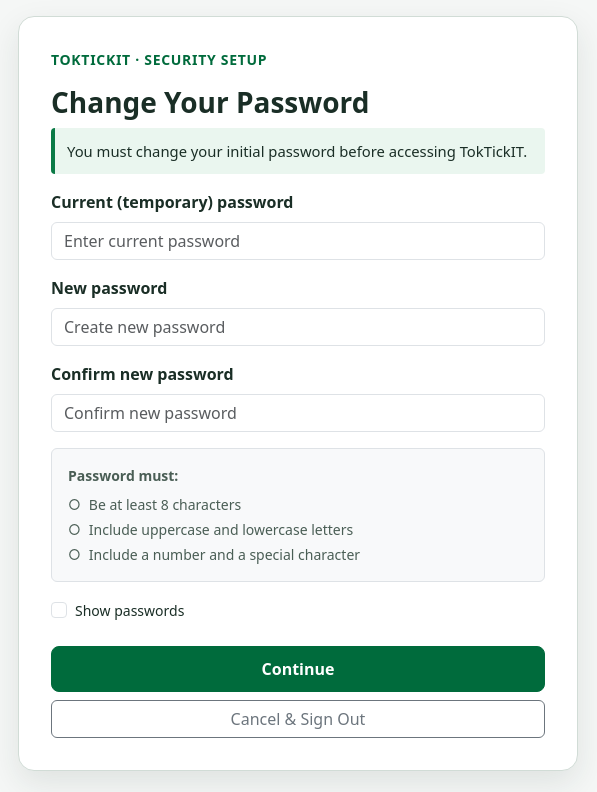
Test case: ChangePassword Component (Work Item 3) › validates that confirmation password matches new password
Step 1. Type "Initial123!" into the password field labelled "Current (temporary) password" → (298, 241), box [51,222,545,260]
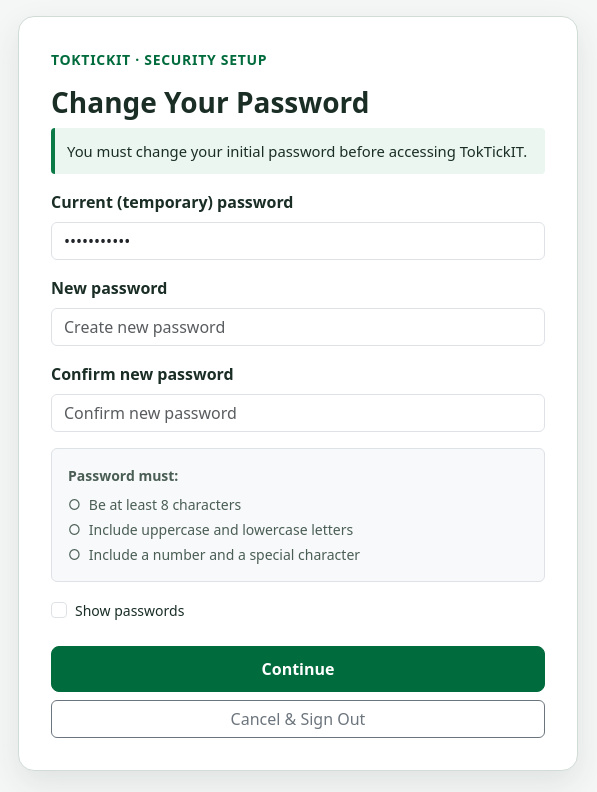
Step 2. Type "ValidNewPass123!" into the password field labelled "New password" → (298, 327), box [51,308,545,346]
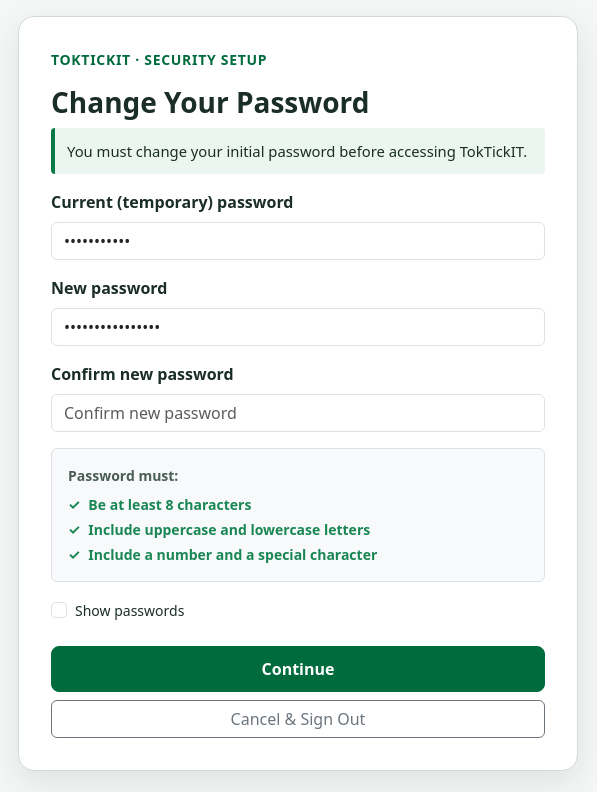
Step 3. Type "MismatchedPass123!" into the password field labelled "Confirm new password" → (298, 413), box [51,394,545,432]
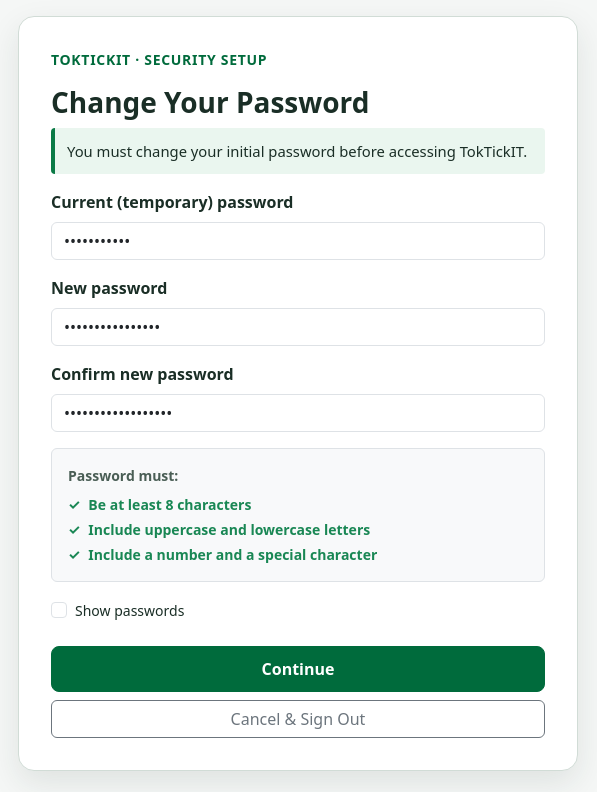
Step 4. Click the button "Continue" → (298, 669), box [51,646,545,692]
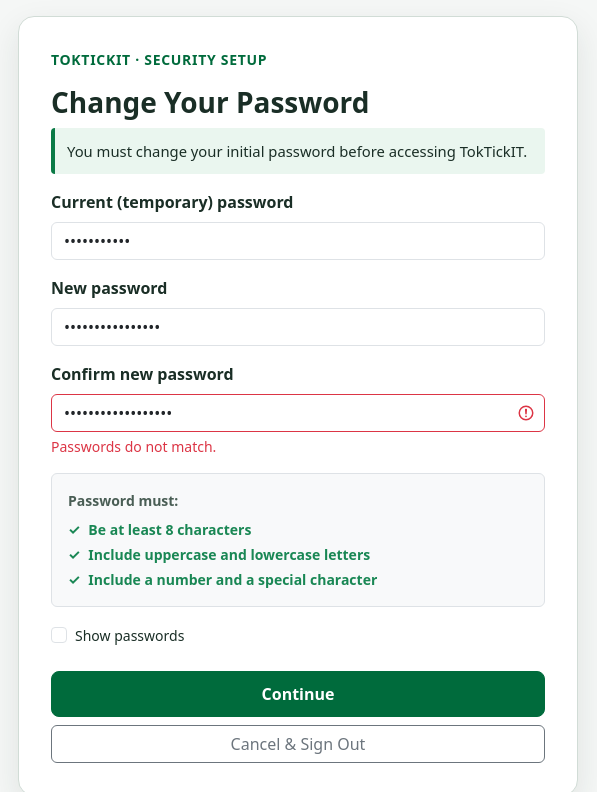
Expected: the text "Passwords do not match." is shown, [51,437,216,456]
